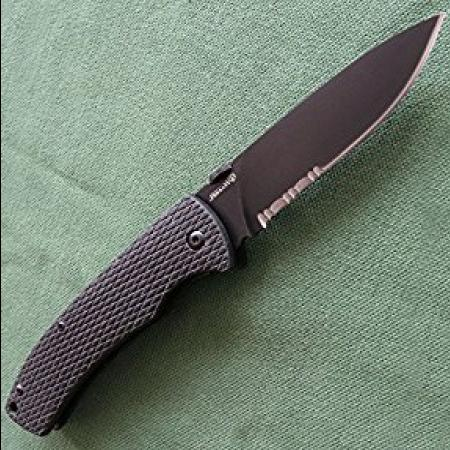long weapon: (185, 5, 445, 254)
